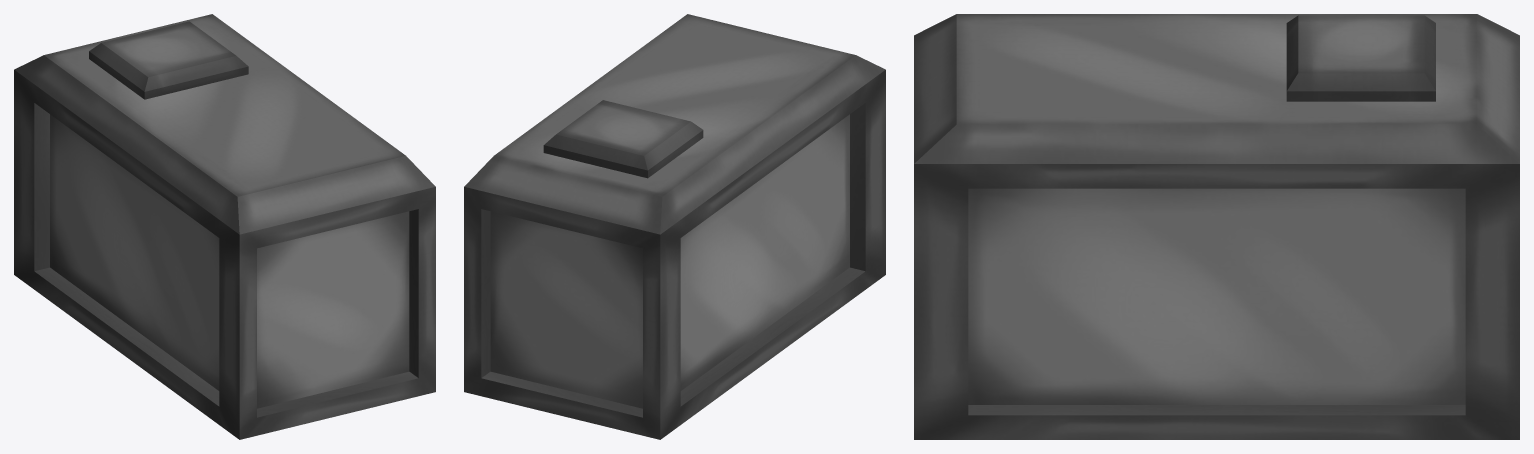
The model's file is steelbox_2x1.fbx.
3 views of the same model, side by side, from view 1: azimuth 30°, elevation 25°; view 2: azimuth 150°, elevation 25°; view 3: azimuth 270°, elevation 25° (orthographic). The views are drawn at different scales.
Parts seen in each view (by area): view 1: pCube21; view 2: pCube21; view 3: pCube21.
Part boxes in pixels (x1=…): pCube21: x1=14, y1=14, x2=435, y2=439; pCube21: x1=464, y1=14, x2=885, y2=439; pCube21: x1=914, y1=14, x2=1519, y2=439.
Bounding box in the file's own units: 100 × 120 × 199.
